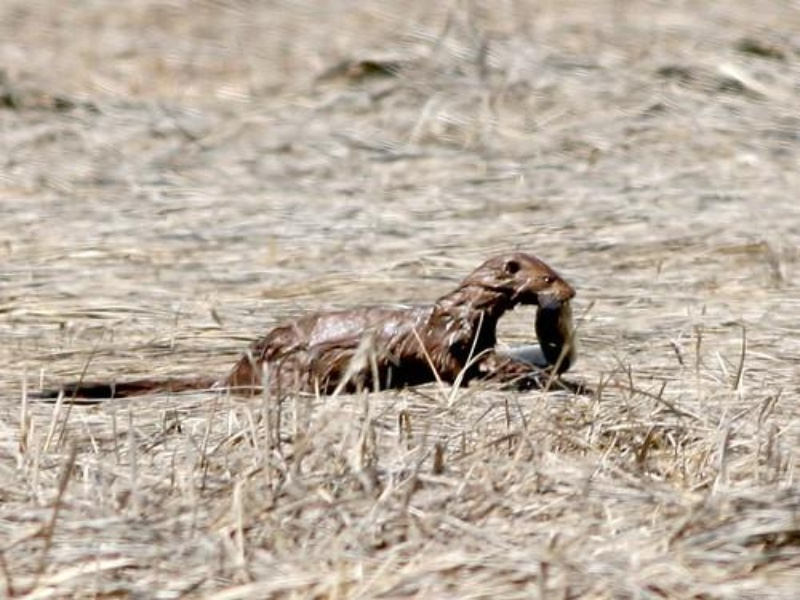minkish: (216, 249, 578, 399)
